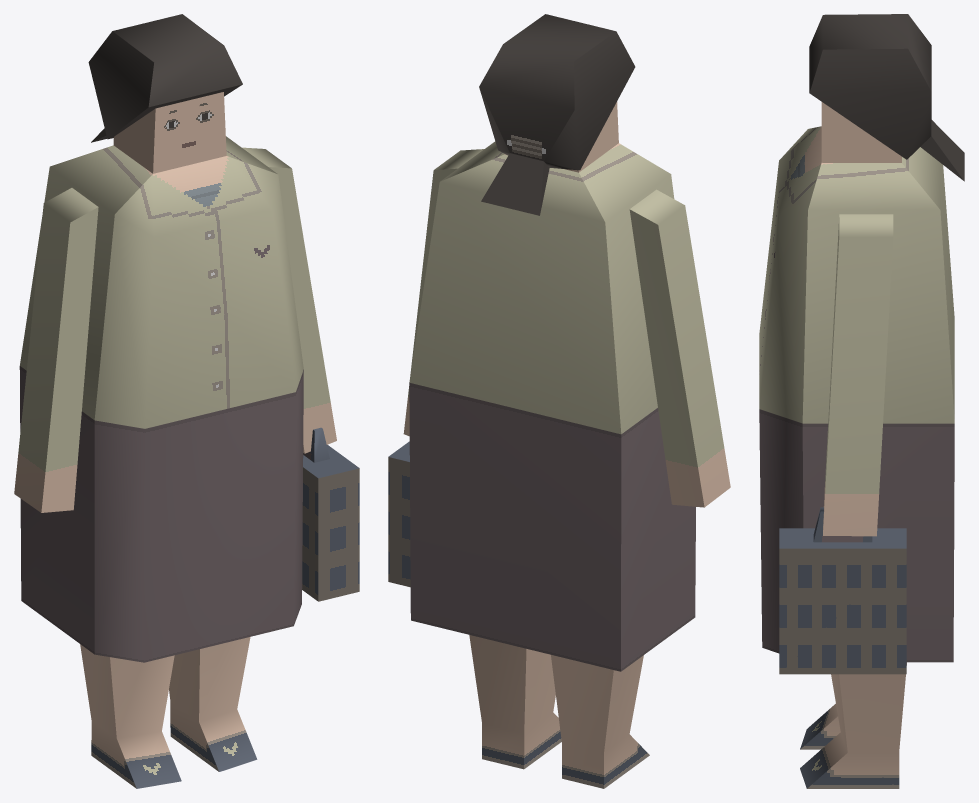
Rendered from 020a_Chubby_Housewife.glb.
The picture shows the model from 3 angles, left to right: view 1: azimuth 30°, elevation 25°; view 2: azimuth 150°, elevation 25°; view 3: azimuth 270°, elevation 25°; orthographic projection.
Parts seen in each view (by area): view 1: part_0; view 2: part_0; view 3: part_0.
Boxes of the visible parts, bbox=[...] form: part_0: bbox=[14, 14, 359, 788]; part_0: bbox=[388, 14, 730, 788]; part_0: bbox=[759, 14, 964, 788].
Size of the model in its own units: 0.6715 by 1.54 by 0.3943.
1 material, 1 textured.
